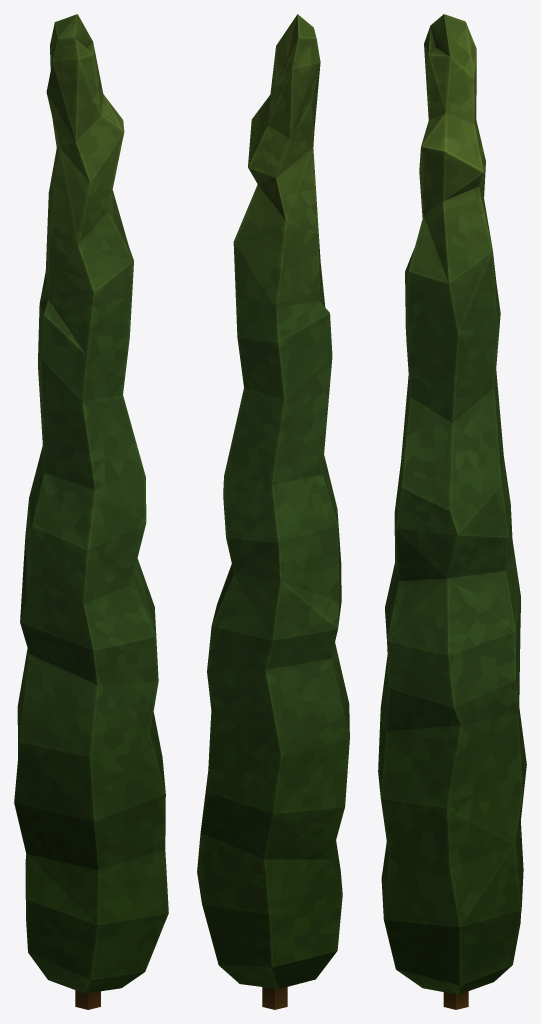
Rendered from CypressTree.gltf.
3 renders of one model, left to right at view 1: azimuth 30°, elevation 25°; view 2: azimuth 150°, elevation 25°; view 3: azimuth 270°, elevation 25°, orthographic.
Visible parts, largest first — view 1: node-0; view 2: node-0; view 3: node-0.
Boxes of the visible parts, x1=… form: node-0: x1=14, y1=14, x2=168, y2=1009; node-0: x1=197, y1=14, x2=349, y2=1009; node-0: x1=378, y1=14, x2=526, y2=1009.
Bounding box in the file's own units: 2.03 × 12.99 × 1.78.
1 material, 1 textured.
